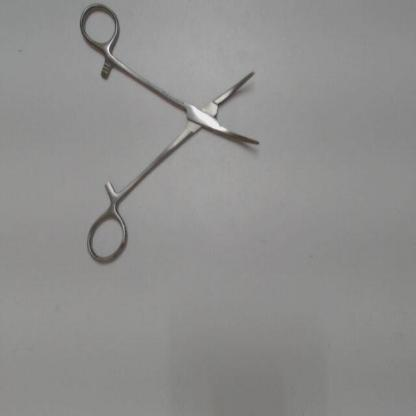Crile Artery Forceps: (76, 3, 266, 272)
